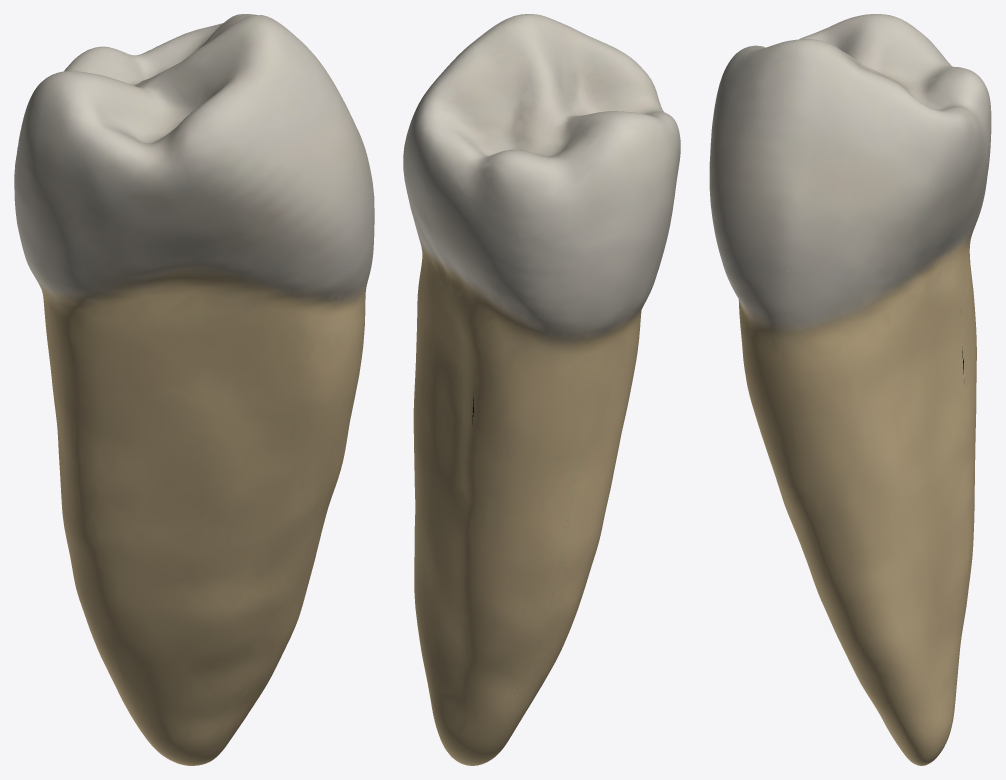
File: mandibular_left_second_premolar.glb
3 views of the same model, side by side, from view 1: azimuth 30°, elevation 25°; view 2: azimuth 150°, elevation 25°; view 3: azimuth 270°, elevation 25° (orthographic). The views are drawn at different scales.
Parts seen in each view (by area): view 1: Object_2; view 2: Object_2; view 3: Object_2.
Part boxes in pixels (x1,y1,x2,y2): Object_2: [14, 14, 374, 765]; Object_2: [403, 14, 680, 765]; Object_2: [709, 14, 991, 765].
Size of the model in its own units: 0.7555 by 1.93 by 0.6816.
1 material, 1 textured.
